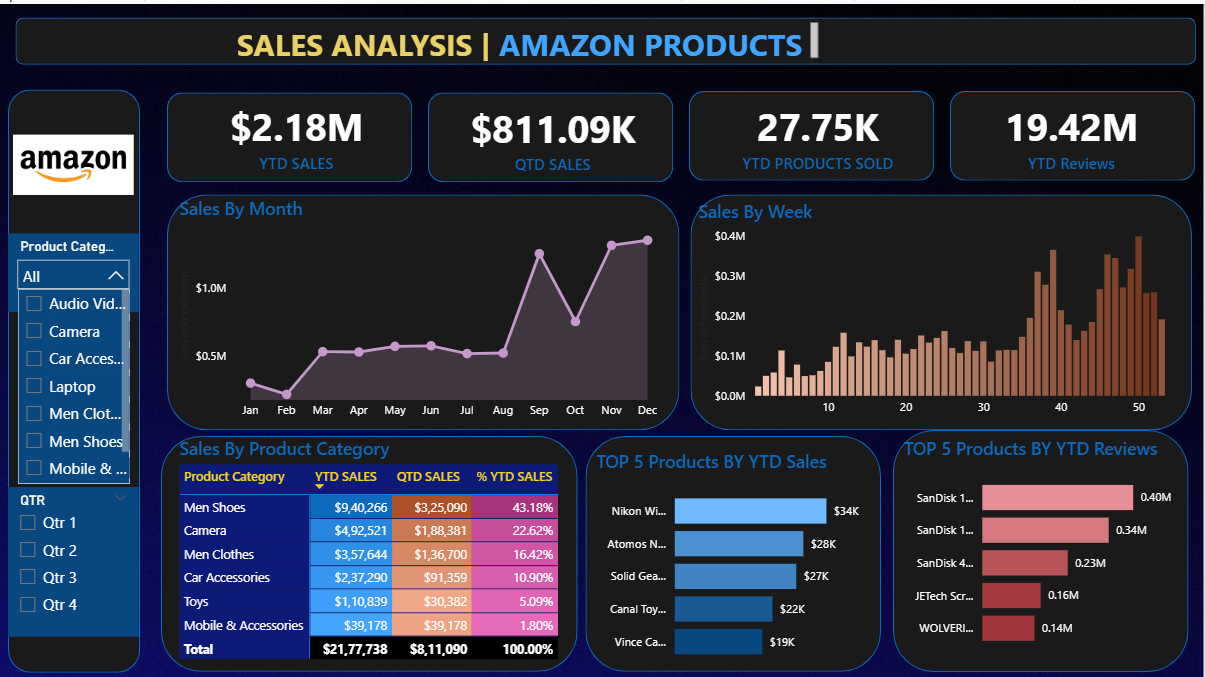

Layout of this report page (visuals, bound fields, positions):
{"tool":"powerbi","page":{"name":"Page 1","canvas":[1280,720],"ordinal":0},"visuals":[{"type":"shape","box":[181.7,93.4,260,95],"z":0,"group":"g1"},{"type":"shape","box":[20,15,1251.7,50],"z":0},{"type":"card","fields":{"Values":["Amazon_Data.YTD SALES"]},"box":[196.7,91.7,245,95],"z":1000,"group":"g1"},{"type":"textbox","box":[250,15,626.7,50],"z":1000},{"type":"shape","box":[458.4,93.4,260,95],"z":2000,"group":"g1"},{"type":"shape","box":[13.3,90,140,618.3],"z":2000},{"type":"shape","box":[735,91.7,260,95],"z":3000,"group":"g1"},{"type":"group","id":"g1","title":"Group 1","box":[181.7,91.7,1090,97.2],"z":3000},{"type":"shape","box":[1011.7,91.7,260,95],"z":4000,"group":"g1"},{"type":"shape","box":[181.7,201.7,543.3,250],"z":4000},{"type":"card","fields":{"Values":["Amazon_Data.QTD SALES"]},"box":[467.3,93.9,245,95],"z":5000,"group":"g1"},{"type":"areaChart","title":"Sales By Month","fields":{"Category":["Date Table.Month Name"],"Y":["Sum(Amazon_Data.Price(Dollar))"]},"box":[190,203.3,521.7,245],"z":5000},{"type":"card","fields":{"Values":["Amazon_Data.YTD PRODUCTS SOLD"]},"box":[743.4,91.7,256.7,95],"z":6000,"group":"g1"},{"type":"shape","box":[736.7,201.7,531.7,250],"z":6000},{"type":"card","fields":{"Values":["Amazon_Data.YTD Reviews"]},"box":[1011.7,91.7,256.7,95],"z":7000,"group":"g1"},{"type":"clusteredColumnChart","title":"Sales By Week","fields":{"Category":["Date Table.Week"],"Y":["Sum(Amazon_Data.Price(Dollar))"]},"box":[740,206.7,525,238.3],"z":7000},{"type":"shape","box":[175,458.3,441.7,250],"z":8000},{"type":"pivotTable","title":"Sales By Product Category","fields":{"Rows":["Amazon_Data.Product Category"],"Values":["Amazon_Data.YTD SALES1","Amazon_Data.QTD SALES","Amazon_Data.YTD SALES"]},"box":[190,458.3,435,250],"z":9000},{"type":"shape","box":[625,458.3,313.3,250],"z":10000},{"type":"shape","box":[951.7,451.7,313.3,256.7],"z":11000},{"type":"clusteredBarChart","title":"TOP 5 Products BY YTD Sales","fields":{"Category":["Amazon_Data.Product Description"],"Y":["Amazon_Data.YTD SALES"]},"box":[631.7,471.7,300,236.7],"z":12000},{"type":"clusteredBarChart","title":"TOP 5 Products BY YTD Reviews","fields":{"Category":["Amazon_Data.Product Description"],"Y":["Amazon_Data.YTD Reviews"]},"box":[958.3,458.3,300,236.7],"z":13000},{"type":"slicer","fields":{"Values":["Amazon_Data.Product Category"]},"box":[13.3,243.3,138.3,83.3],"z":13001},{"type":"slicer","fields":{"Values":["Date Table.QTR"]},"box":[13.3,511.7,138.3,158.3],"z":13002},{"type":"image","box":[13.3,93.3,138.3,153.3],"z":13003}]}

Visuals, with their boxes in screenshot pixels (x1, y1, x2, y2), scaled from the page's 1280x720 canvas onto the 1205x677 screenshot:
shape: 171, 88, 416, 177
shape: 19, 14, 1197, 61
card - Amazon_Data.YTD SALES: 185, 86, 416, 176
textbox: 235, 14, 825, 61
shape: 432, 88, 676, 177
shape: 13, 85, 144, 666
shape: 692, 86, 937, 176
"Group 1" group: 171, 86, 1197, 178
shape: 952, 86, 1197, 176
shape: 171, 190, 683, 425
card - Amazon_Data.QTD SALES: 440, 88, 671, 178
"Sales By Month" areaChart: 179, 191, 670, 422
card - Amazon_Data.YTD PRODUCTS SOLD: 700, 86, 942, 176
shape: 694, 190, 1194, 425
card - Amazon_Data.YTD Reviews: 952, 86, 1194, 176
"Sales By Week" clusteredColumnChart: 697, 194, 1191, 418
shape: 165, 431, 581, 666
"Sales By Product Category" pivotTable: 179, 431, 588, 666
shape: 588, 431, 883, 666
shape: 896, 425, 1191, 666
"TOP 5 Products BY YTD Sales" clusteredBarChart: 595, 444, 877, 666
"TOP 5 Products BY YTD Reviews" clusteredBarChart: 902, 431, 1185, 653
slicer - Amazon_Data.Product Category: 13, 229, 143, 307
slicer - Date Table.QTR: 13, 481, 143, 630
image: 13, 88, 143, 232
